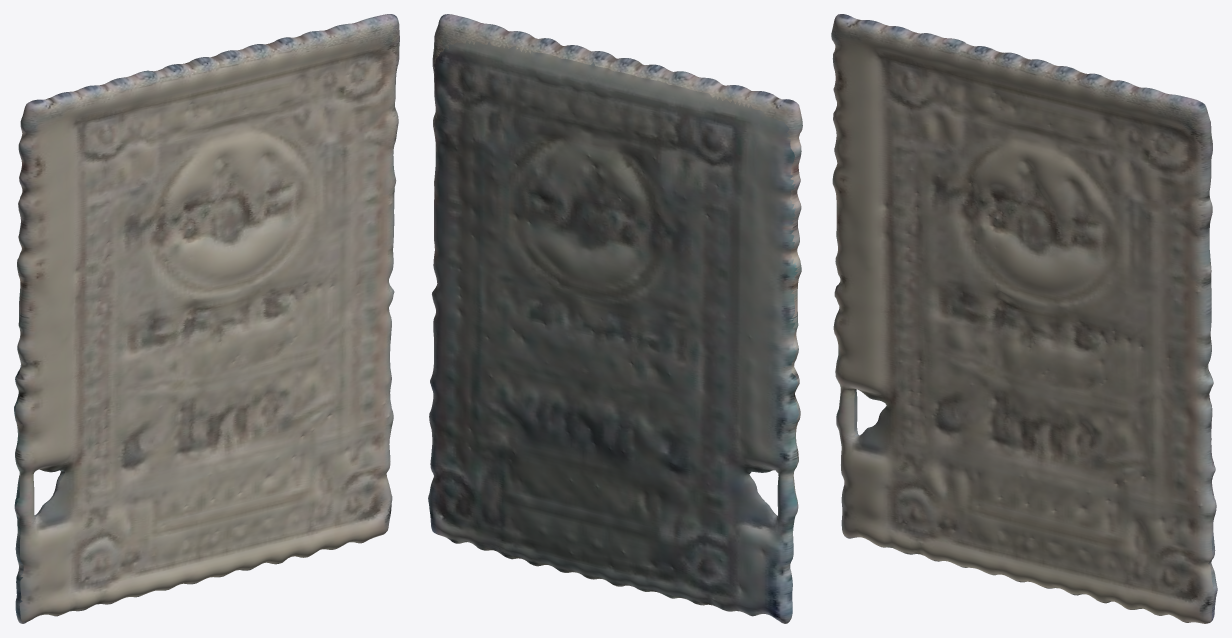
The model's file is kfl-2224.glb.
3 renders of one model, left to right at view 1: azimuth 30°, elevation 25°; view 2: azimuth 150°, elevation 25°; view 3: azimuth 330°, elevation 25°, orthographic. The views are drawn at different scales.
Parts seen in each view (by area): view 1: geometry_0; view 2: geometry_0; view 3: geometry_0.
Boxes of the visible parts, x1=… form: geometry_0: x1=14, y1=14, x2=399, y2=623; geometry_0: x1=428, y1=14, x2=802, y2=623; geometry_0: x1=831, y1=14, x2=1217, y2=623.
Size of the model in its own units: 0.7377 by 0.9913 by 0.0842.
Materials: 1 (1 with a texture image).
